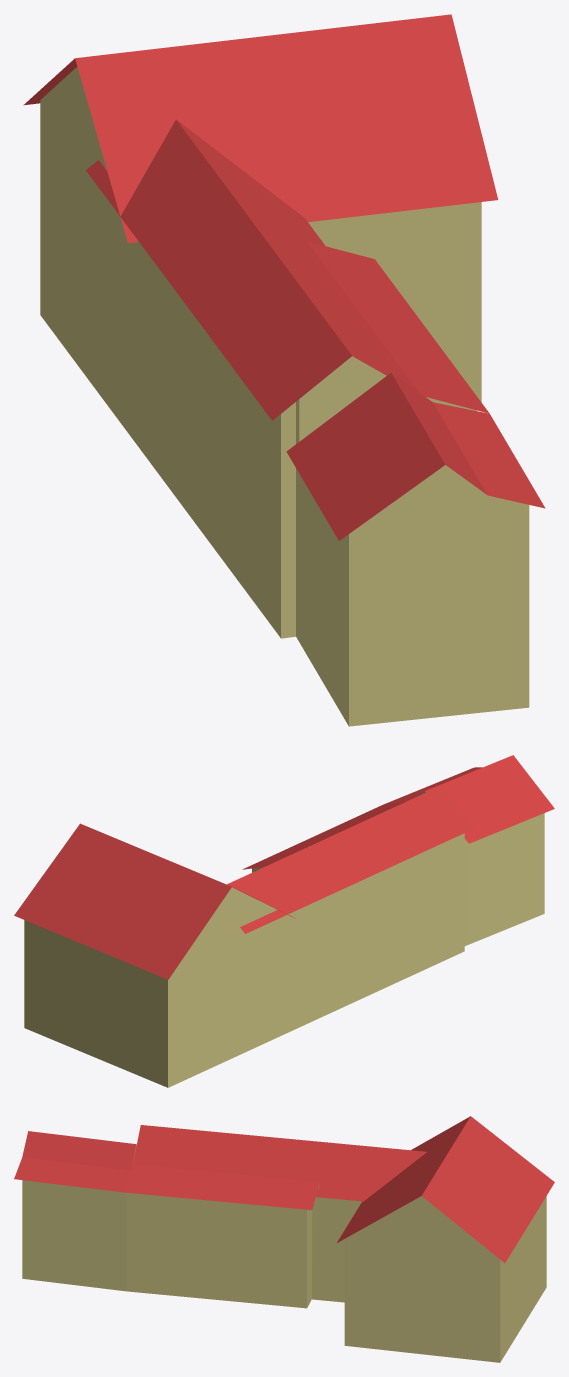
The picture shows the model from 3 angles, top to bottom: view 1: azimuth 30°, elevation 25°; view 2: azimuth 150°, elevation 25°; view 3: azimuth 270°, elevation 25°; orthographic projection. The views are drawn at different scales.
Bounding box in the file's own units: 22.54 × 39.98 × 13.15.
